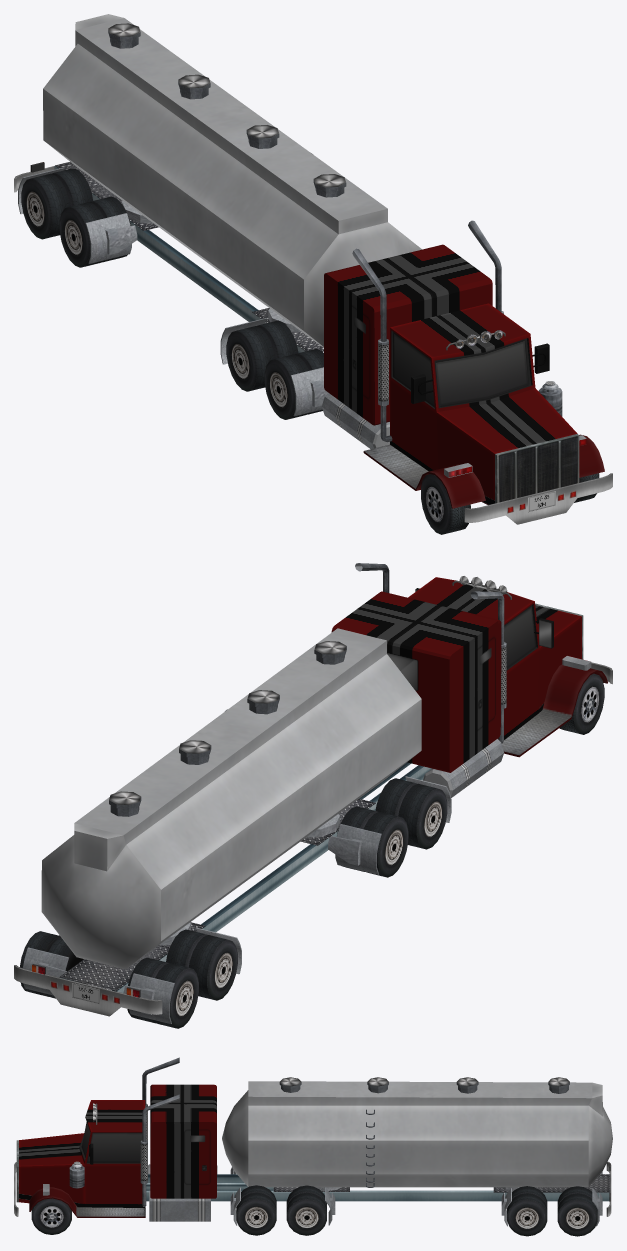
The model's file is Oil_tanker.fbx.
3 views of the same model, one above another, from view 1: azimuth 30°, elevation 25°; view 2: azimuth 150°, elevation 25°; view 3: azimuth 270°, elevation 25° (orthographic). The views are drawn at different scales.
Parts seen in each view (by area): view 1: body, BACK_LEFT_MEDDIL_TYRES8, BACK_LEFT_MEDDIL_TYRES10, BACK_LEFT_MEDDIL_TYRES9, BACK_LEFT_MEDDIL_TYRES7, FRENT_LEFT_TYRE1; view 2: body, BACK_LEFT_MEDDIL_TYRES7, BACK_LEFT_MEDDIL_TYRES9, BACK_LEFT_MEDDIL_TYRES8, BACK_LEFT_MEDDIL_TYRES10, FRENT_LEFT_TYRE1, BACK_LEFT_MEDDIL_TYRES6; view 3: body, BACK_LEFT_MEDDIL_TYRES2, BACK_LEFT_MEDDIL_TYRES, BACK_LEFT_MEDDIL_TYRES5, BACK_LEFT_MEDDIL_TYRES6, FRENT_LEFT_TYRE.
Boxes of the visible parts, x1=… form: body: x1=14, y1=14, x2=612, y2=524; BACK_LEFT_MEDDIL_TYRES8: x1=226, y1=320, x2=298, y2=391; BACK_LEFT_MEDDIL_TYRES10: x1=21, y1=168, x2=92, y2=239; BACK_LEFT_MEDDIL_TYRES9: x1=59, y1=196, x2=130, y2=267; BACK_LEFT_MEDDIL_TYRES7: x1=264, y1=349, x2=323, y2=419; FRENT_LEFT_TYRE1: x1=421, y1=474, x2=470, y2=534; body: x1=14, y1=563, x2=612, y2=1023; BACK_LEFT_MEDDIL_TYRES7: x1=375, y1=778, x2=447, y2=849; BACK_LEFT_MEDDIL_TYRES9: x1=166, y1=929, x2=237, y2=1000; BACK_LEFT_MEDDIL_TYRES8: x1=337, y1=806, x2=408, y2=877; BACK_LEFT_MEDDIL_TYRES10: x1=127, y1=957, x2=198, y2=1028; FRENT_LEFT_TYRE1: x1=559, y1=673, x2=604, y2=734; BACK_LEFT_MEDDIL_TYRES6: x1=20, y1=931, x2=86, y2=998; body: x1=14, y1=1057, x2=612, y2=1226; BACK_LEFT_MEDDIL_TYRES2: x1=286, y1=1185, x2=326, y2=1235; BACK_LEFT_MEDDIL_TYRES: x1=236, y1=1185, x2=276, y2=1235; BACK_LEFT_MEDDIL_TYRES5: x1=507, y1=1186, x2=547, y2=1236; BACK_LEFT_MEDDIL_TYRES6: x1=557, y1=1186, x2=597, y2=1236; FRENT_LEFT_TYRE: x1=31, y1=1198, x2=71, y2=1234.
Size of the model in its own units: 12.01 by 15.44 by 61.57.
